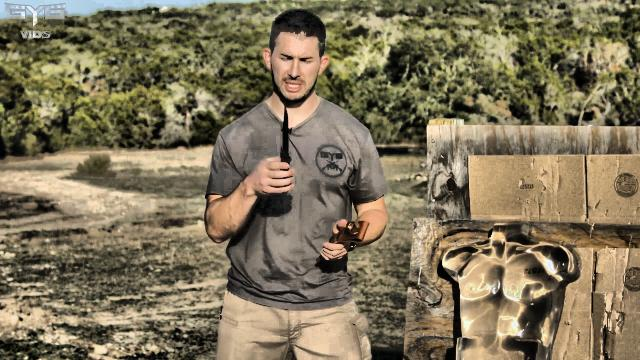knife: (255, 99, 298, 197)
